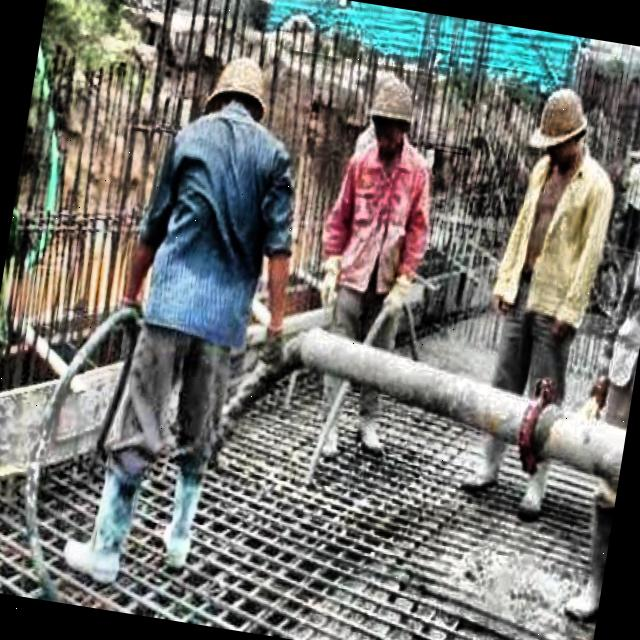helmet: (528, 77, 600, 193), (200, 55, 278, 143), (362, 66, 425, 170), (614, 98, 640, 232)
